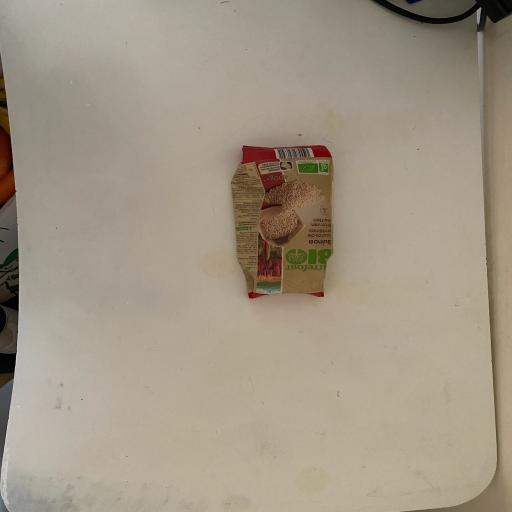quinoa: (202, 120, 382, 325)
